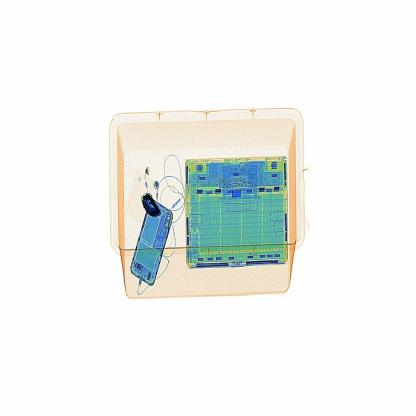scissors: (139, 185, 170, 236)
